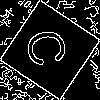C: (25, 25, 77, 69)
